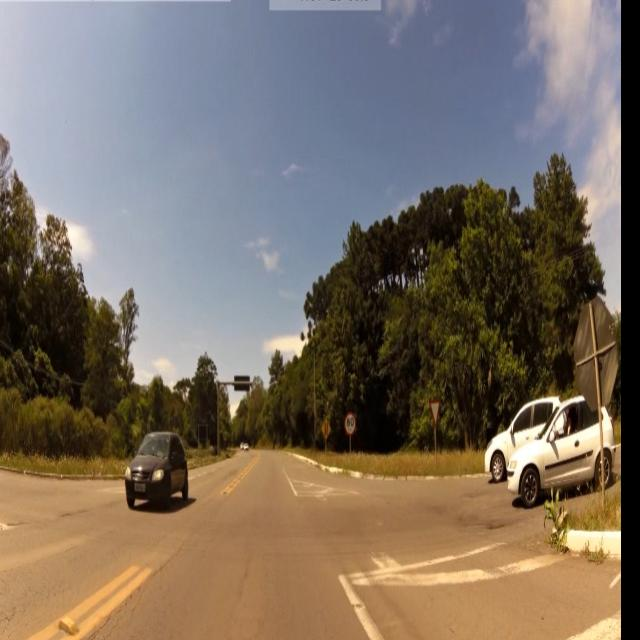R-2: (426, 398, 446, 427)
